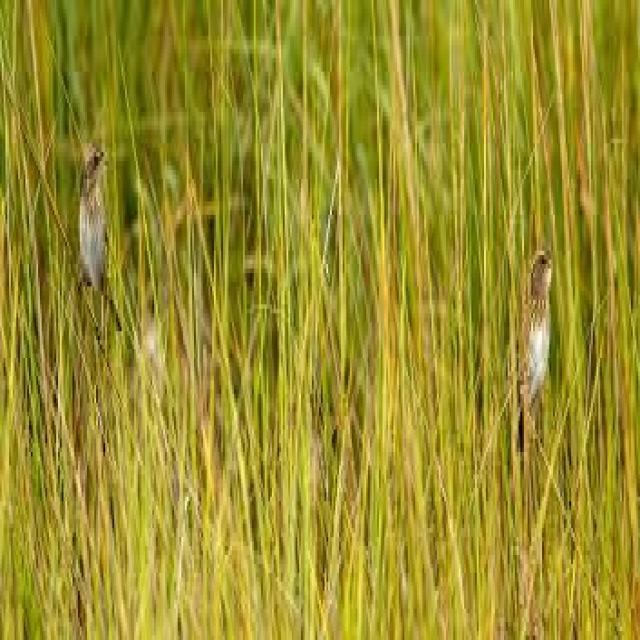bird: (74, 146, 130, 350), (518, 245, 555, 442)
